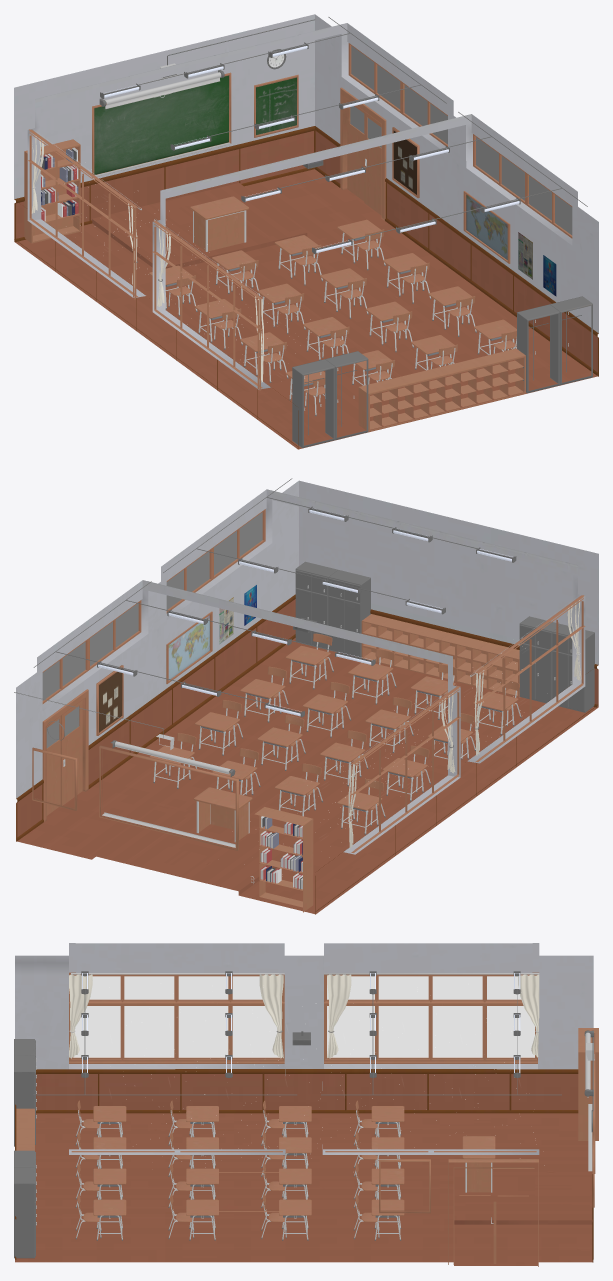
Rendered from classroom.glb.
3 views of the same model, one above another, from view 1: azimuth 30°, elevation 25°; view 2: azimuth 150°, elevation 25°; view 3: azimuth 270°, elevation 25° (orthographic). The views are drawn at different scales.
Visible parts, largest first — view 1: walls_walls_0, blackboard_details_0, chair_tables_0, board1.001_posters_0; view 2: walls_walls_0, blackboard_details_0, chair_tables_0, board1.001_posters_0; view 3: walls_walls_0, blackboard_details_0, chair_tables_0.
Part boxes in pixels (box(x1,y1,x2,y2)): walls_walls_0: box(14, 14, 598, 449); blackboard_details_0: box(24, 17, 592, 447); chair_tables_0: box(149, 196, 516, 416); board1.001_posters_0: box(94, 75, 556, 296); walls_walls_0: box(16, 480, 598, 914); blackboard_details_0: box(14, 478, 594, 912); chair_tables_0: box(149, 633, 521, 842); board1.001_posters_0: box(99, 585, 256, 732); walls_walls_0: box(15, 943, 593, 1265); blackboard_details_0: box(14, 971, 598, 1266); chair_tables_0: box(75, 1100, 495, 1240).
Size of the model in its own units: 10.47 by 6.36 by 15.84.
5 materials, 5 textured.
